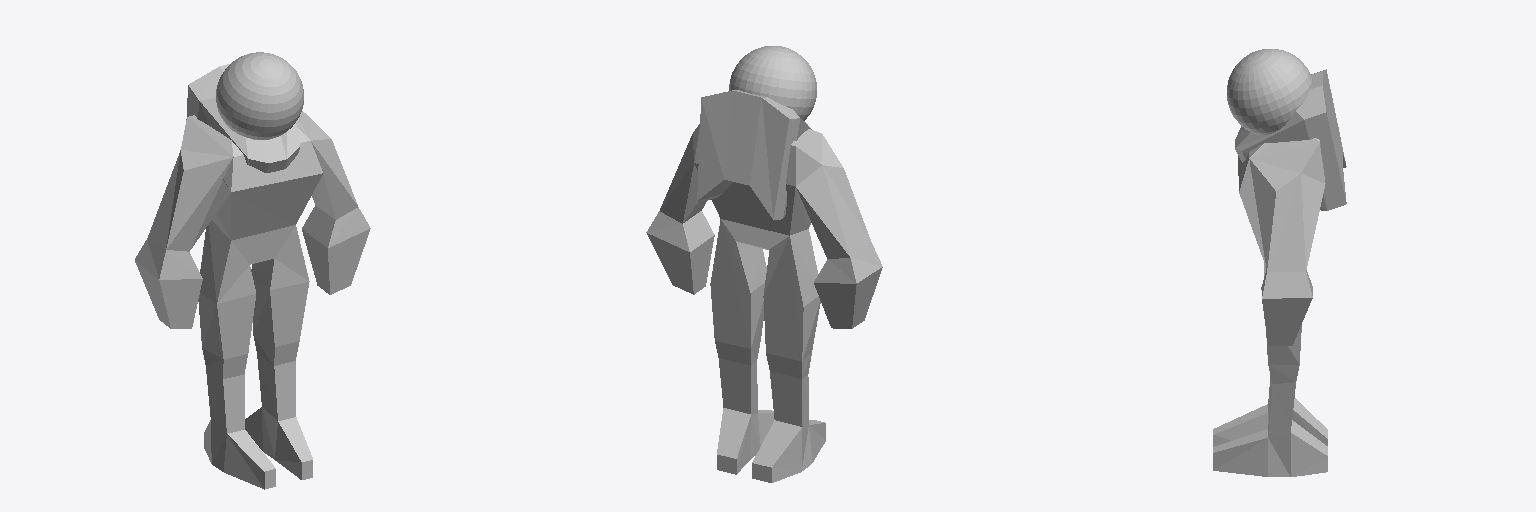
File: male_character.obj
The picture shows the model from 3 angles: view 1: azimuth 30°, elevation 25°; view 2: azimuth 150°, elevation 25°; view 3: azimuth 270°, elevation 25°; orthographic projection.
Parts seen in each view (by area): view 1: Cube.003_Cube.002; view 2: Cube.003_Cube.002; view 3: Cube.003_Cube.002.
Boxes of the visible parts, x1=… form: Cube.003_Cube.002: x1=135, y1=52, x2=370, y2=489; Cube.003_Cube.002: x1=646, y1=46, x2=882, y2=482; Cube.003_Cube.002: x1=1213, y1=49, x2=1346, y2=476.
Bounding box in the file's own units: 6.72 × 12.32 × 3.67.